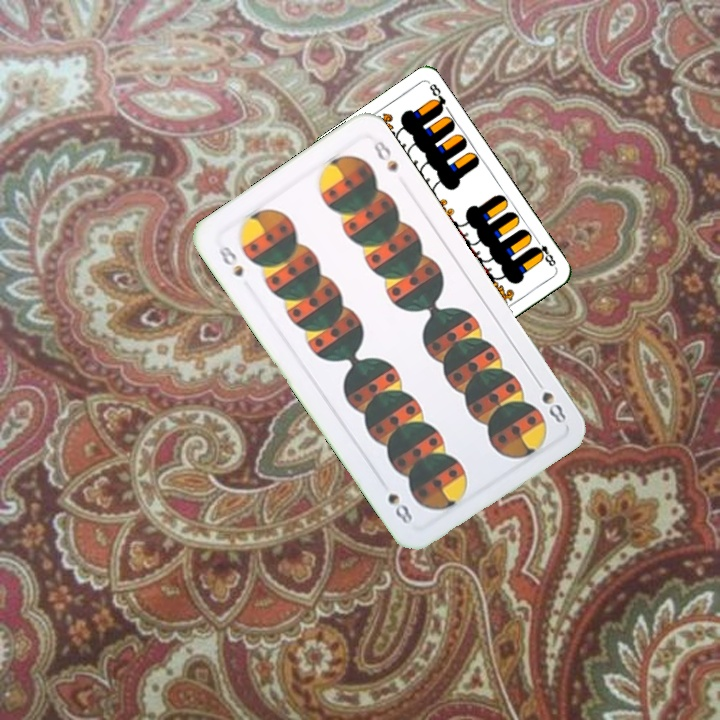E8: (530, 234, 559, 269)
S8: (211, 240, 247, 280), (537, 387, 569, 426)
